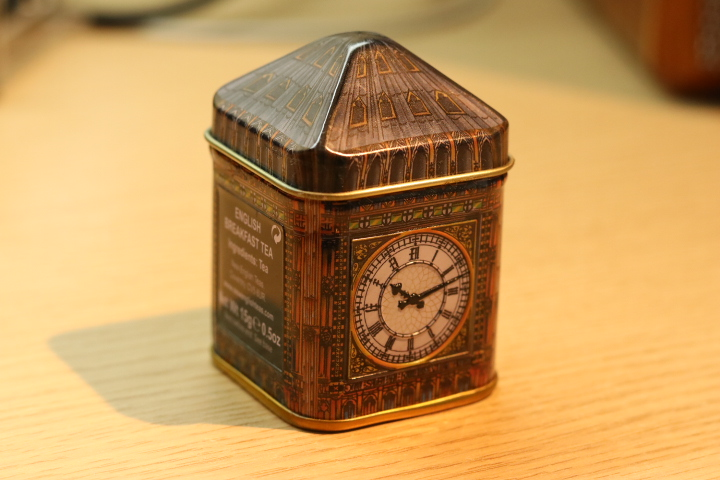Big Ben: (200, 22, 527, 444)
